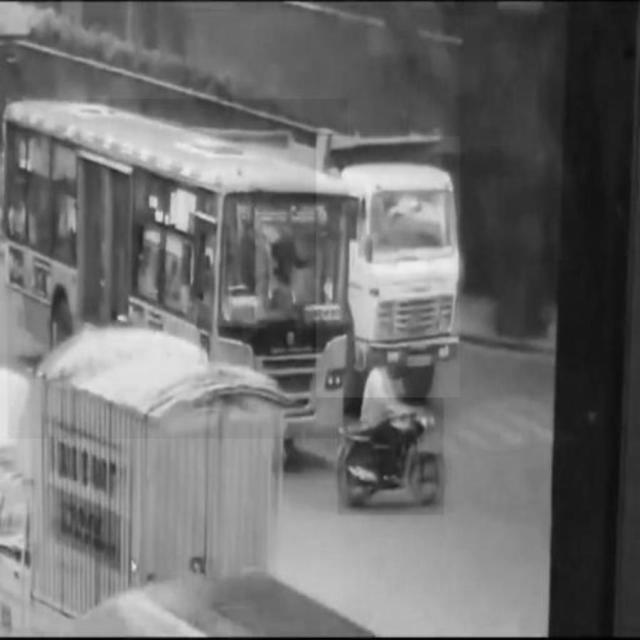vehicle: (8, 99, 348, 439), (317, 136, 461, 397), (338, 350, 444, 516)
